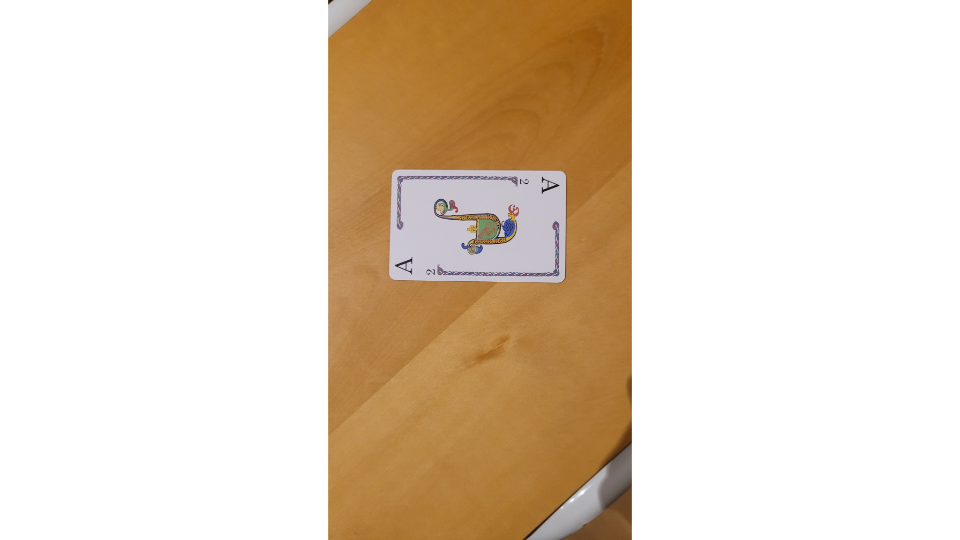A: (386, 165, 572, 286)
